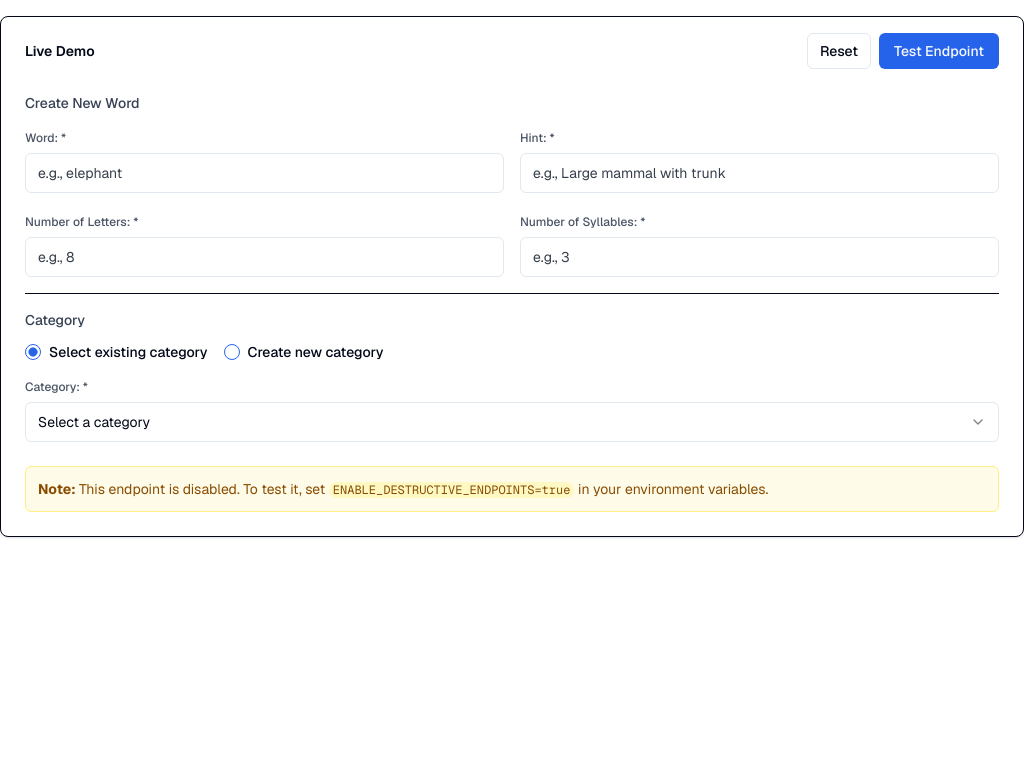
Test case: Word CRUD Integration Flow › should complete full word creation workflow
The width and height of the screenshot is (1024, 768).
Expected: the field labelled "Hint: *" is shown, 520,153 -> 999,193
Expected: the dropdown is shown, 25,402 -> 999,442
// Fill form and submit (focusing on workflow, not detailed interactions)
Type "apple" into the field labelled "Word: *" at (264, 173), box 25,153 -> 504,193
Type "A red fruit" into the field labelled "Hint: *" at (760, 173), box 520,153 -> 999,193
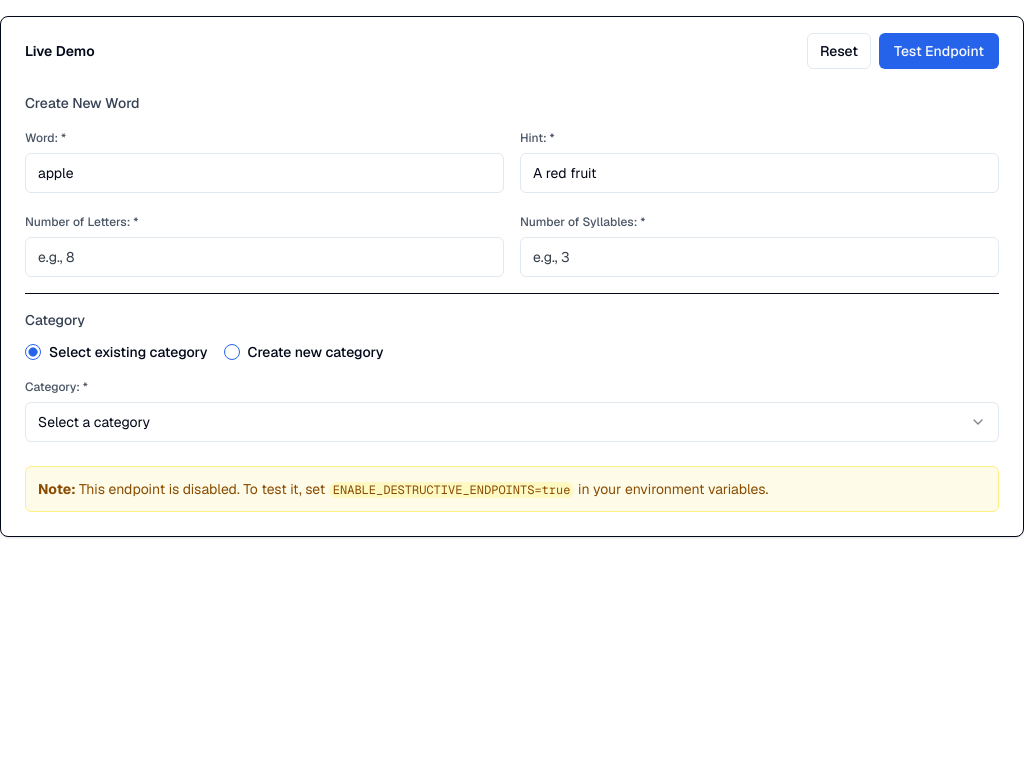
Type "5" into the number field labelled "Number of Letters: *" at (264, 257), box 25,237 -> 504,277
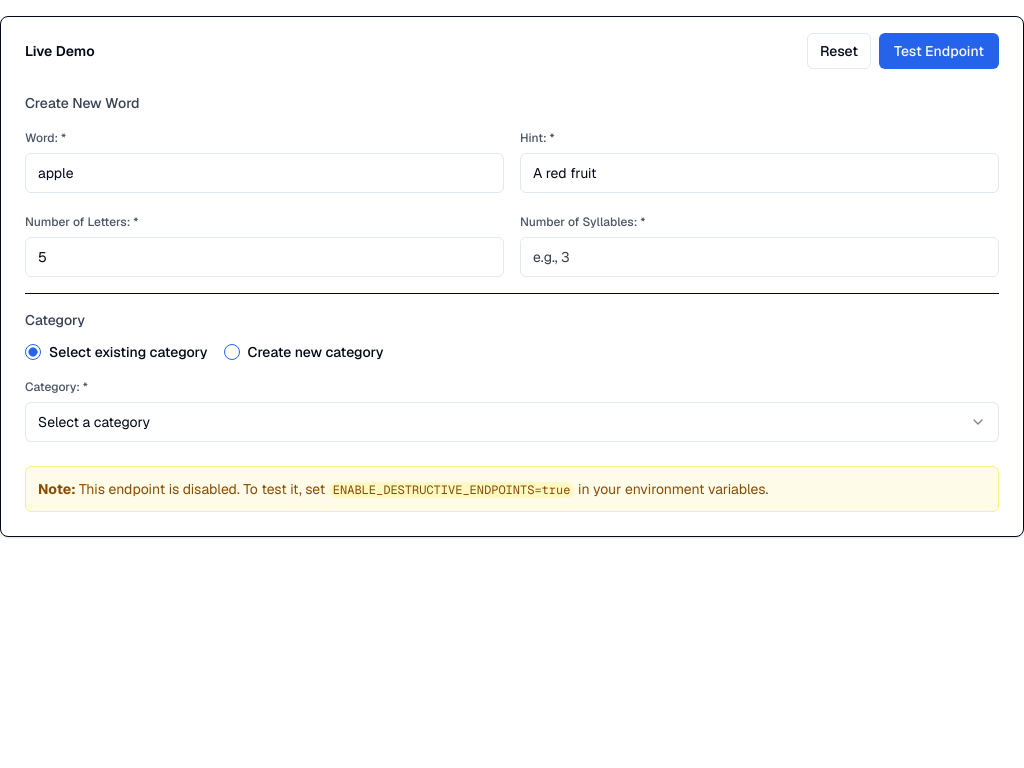
Type "2" into the number field labelled "Number of Syllables: *" at (760, 257), box 520,237 -> 999,277
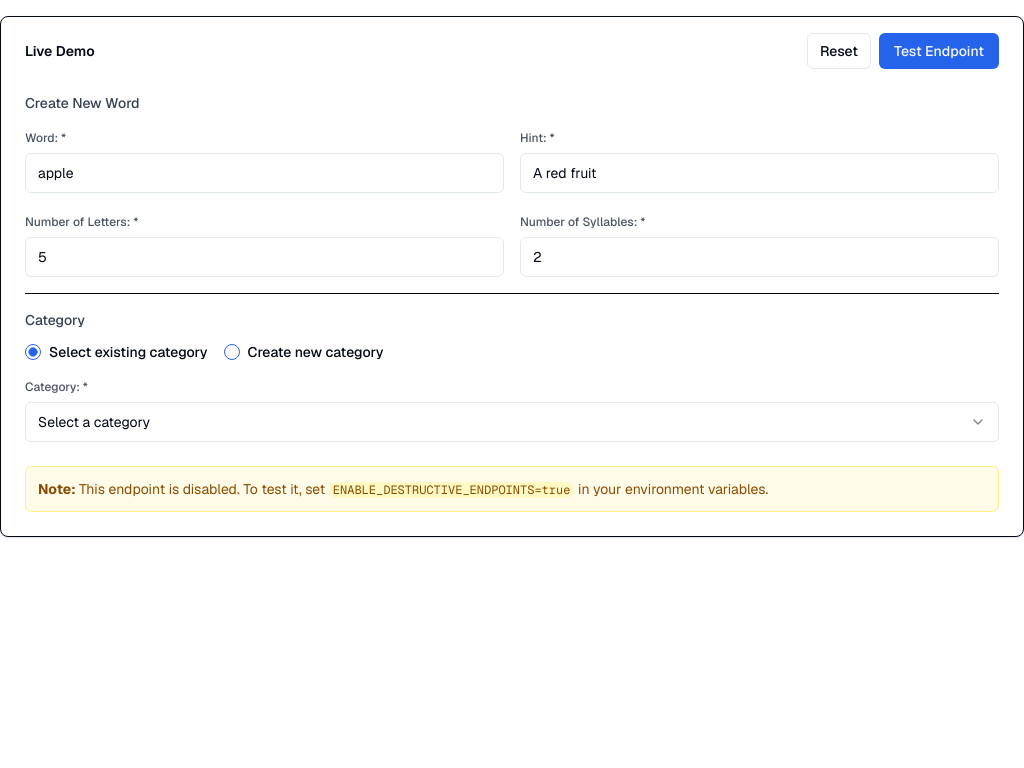
Click the dropdown at (94, 422), box 25,402 -> 999,442
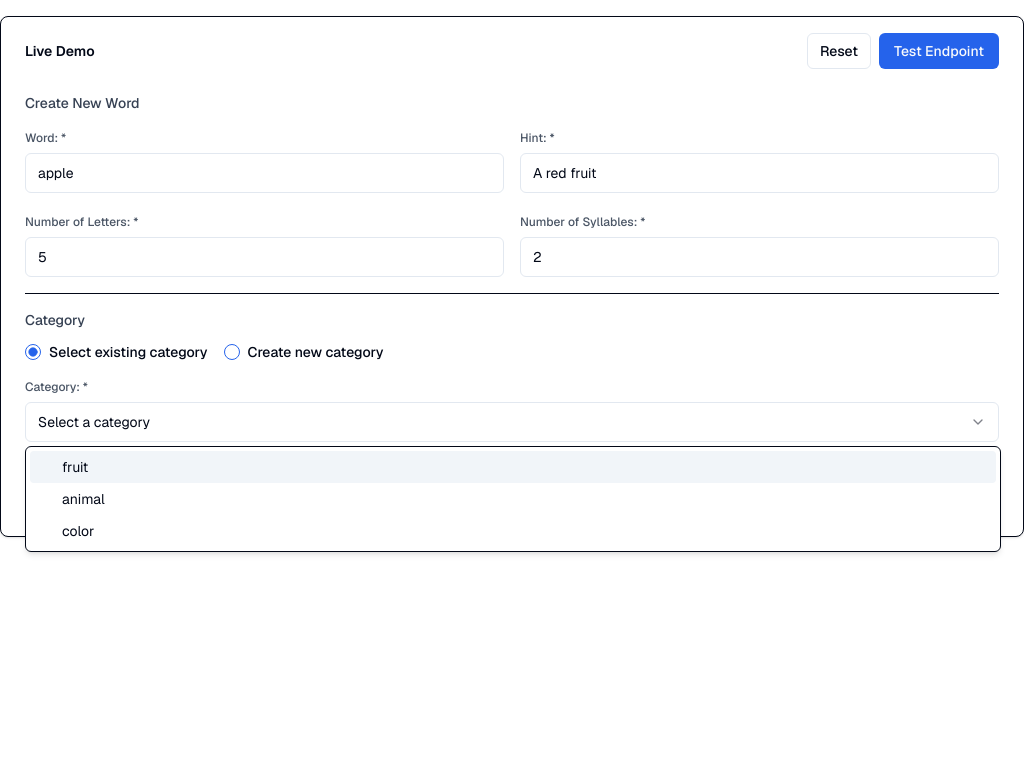
Now the text "fruit" is shown, box 62,457 -> 88,477
Click the option "fruit" at (75, 467), box 30,451 -> 996,483
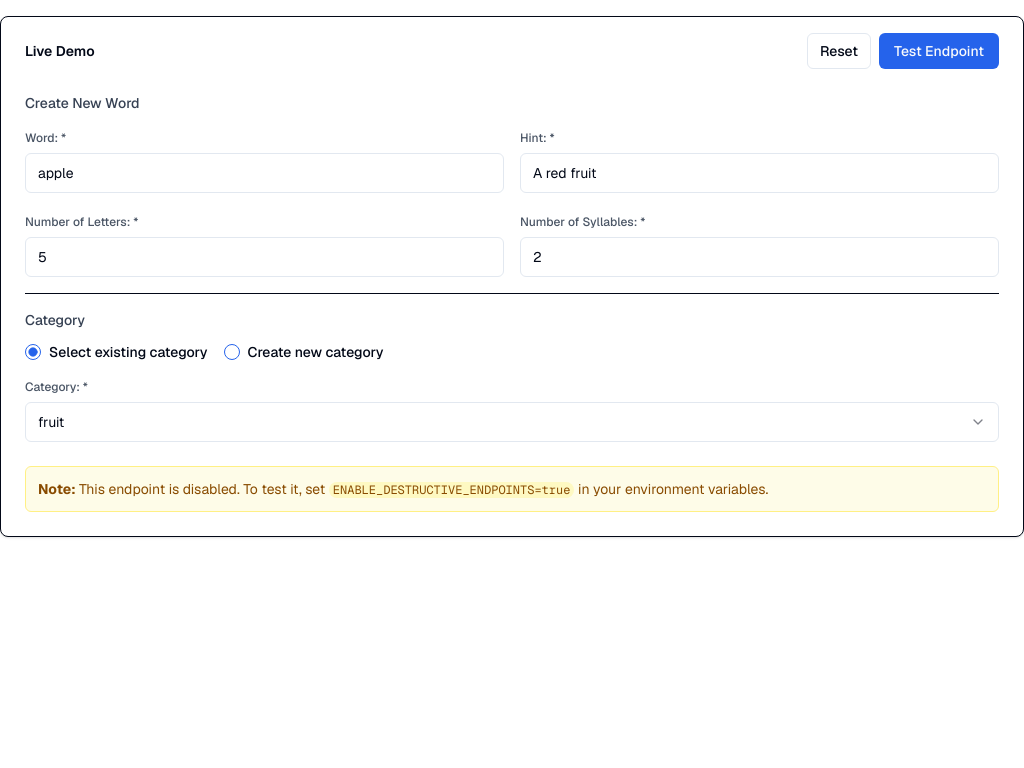
Click the button "Test Endpoint" at (939, 51), box 879,33 -> 999,69
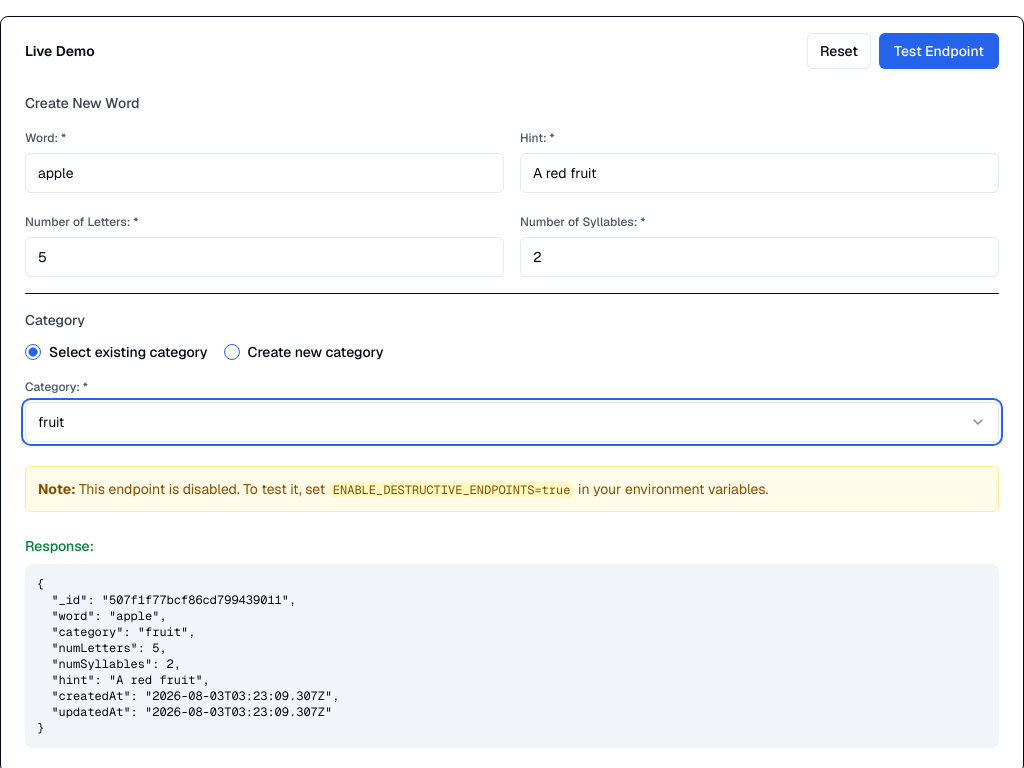
Now the heading "Response:" is shown, box 25,536 -> 94,556
